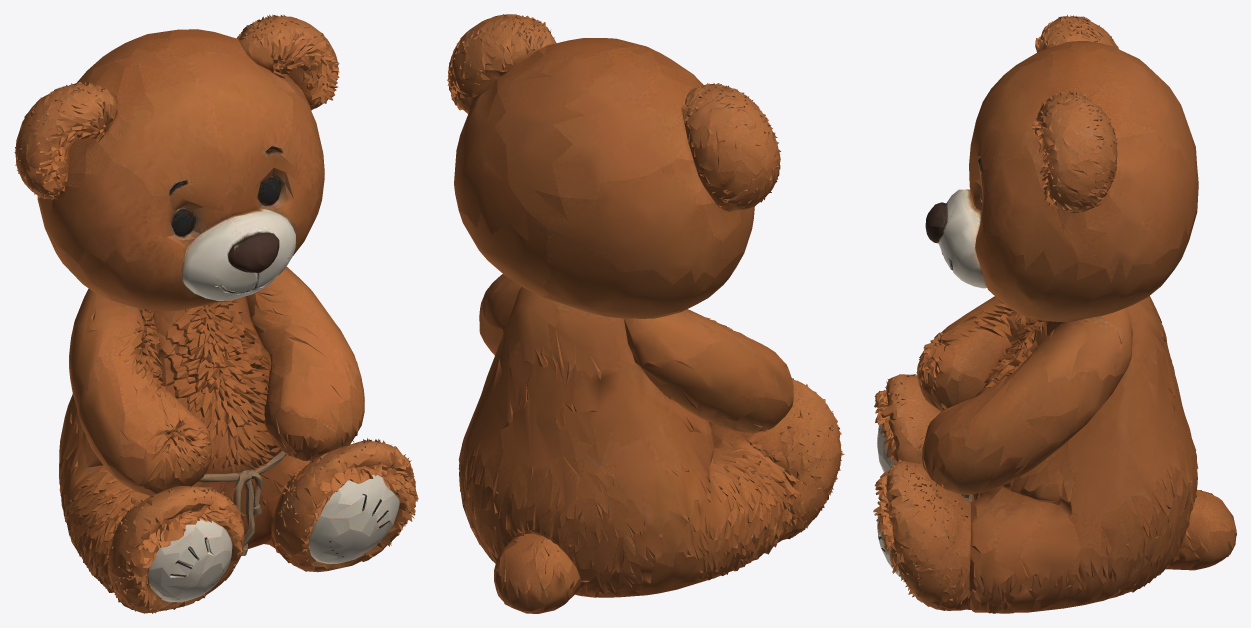
The model's file is teddy.glb.
3 views of the same model, side by side, from view 1: azimuth 30°, elevation 25°; view 2: azimuth 150°, elevation 25°; view 3: azimuth 270°, elevation 25° (orthographic). The views are drawn at different scales.
Bounding box in the file's own units: 1.27 × 1.91 × 1.24.
Materials: 1 (1 with a texture image).
